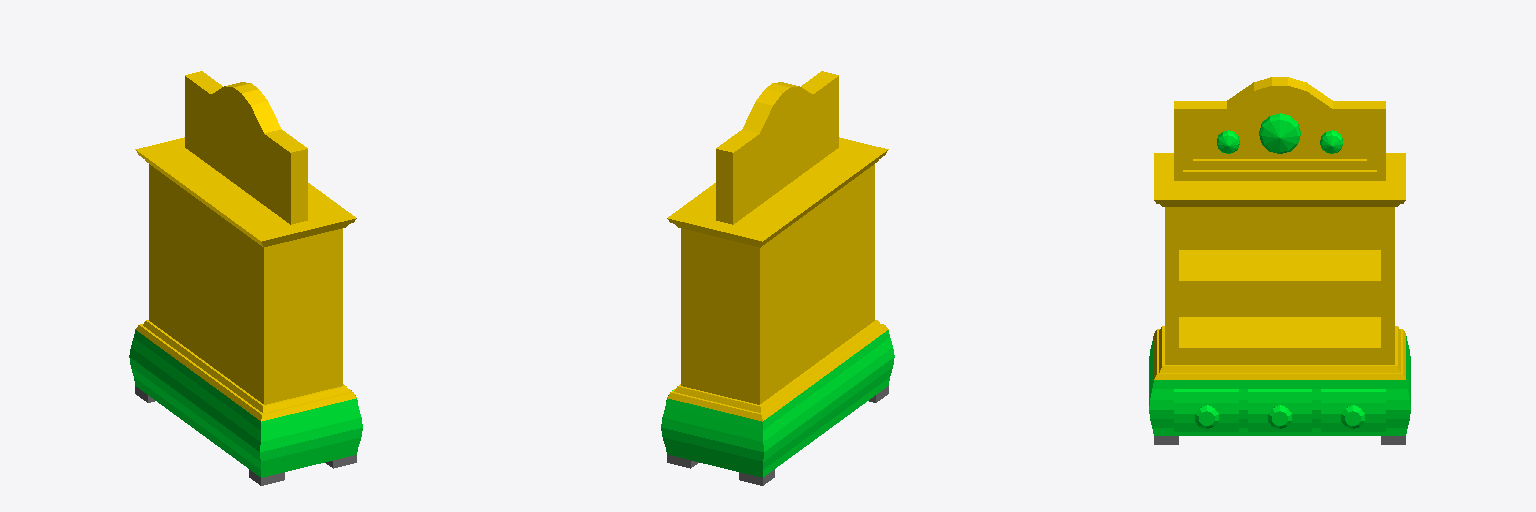
File: shelf.obj
3 renders of one model, left to right at view 1: azimuth 30°, elevation 25°; view 2: azimuth 150°, elevation 25°; view 3: azimuth 270°, elevation 25°, orthographic.
Visible parts, largest first — view 1: Shelf1_colour, Base UpperPlate; view 2: Shelf1_colour, Base UpperPlate; view 3: Shelf1_colour, Base UpperPlate, Shelf_Slide Base.
Boxes of the visible parts, <box> form: Shelf1_colour: <box>129,137,362,485</box>; Base UpperPlate: <box>185,71,307,224</box>; Shelf1_colour: <box>661,137,894,485</box>; Base UpperPlate: <box>716,71,838,224</box>; Shelf1_colour: <box>1149,113,1410,444</box>; Base UpperPlate: <box>1174,77,1385,180</box>; Shelf_Slide Base: <box>1174,389,1385,431</box>.
Size of the model in its own units: 3.86 by 10.25 by 7.16.